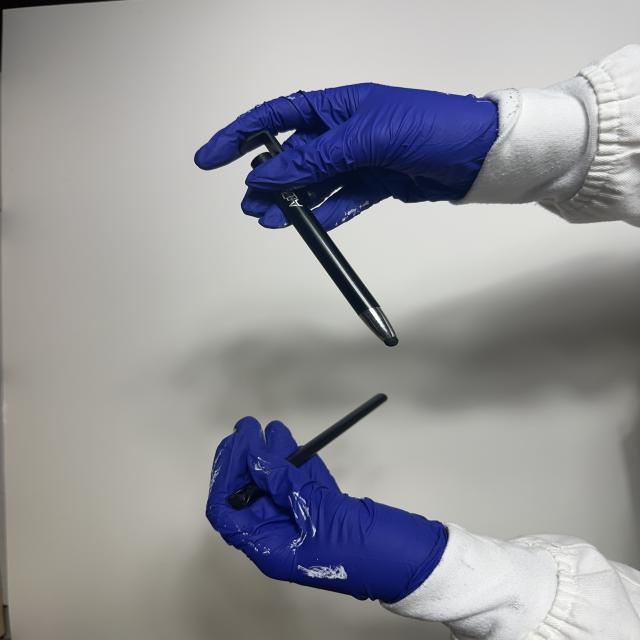gloves_contaminated: (195, 83, 498, 230), (207, 418, 448, 600)
